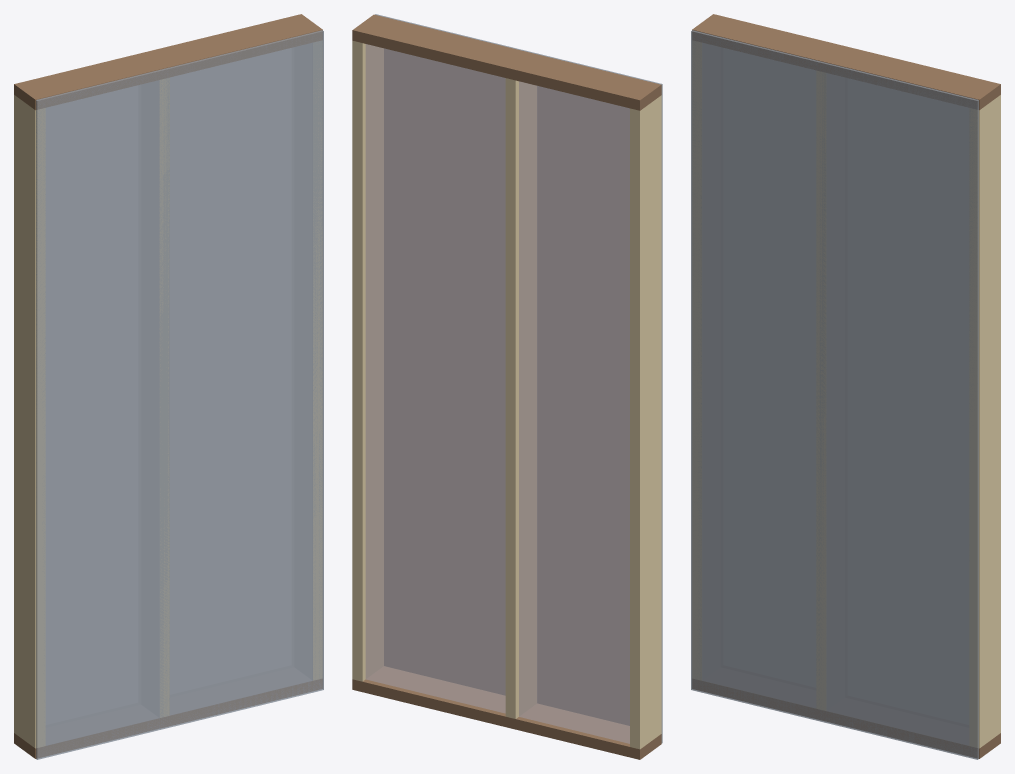
The picture shows the model from 3 angles, left to right: view 1: azimuth 30°, elevation 25°; view 2: azimuth 150°, elevation 25°; view 3: azimuth 330°, elevation 25°; orthographic projection.
Visible parts, largest first — view 1: EX21 FF; view 2: EX21 FF; view 3: EX21 FF.
Part boxes in pixels (x1=…): EX21 FF: x1=14, y1=14, x2=323, y2=759; EX21 FF: x1=352, y1=14, x2=662, y2=759; EX21 FF: x1=691, y1=14, x2=1000, y2=759.
Size of the model in its own units: 1.09 by 2.38 by 0.149.
